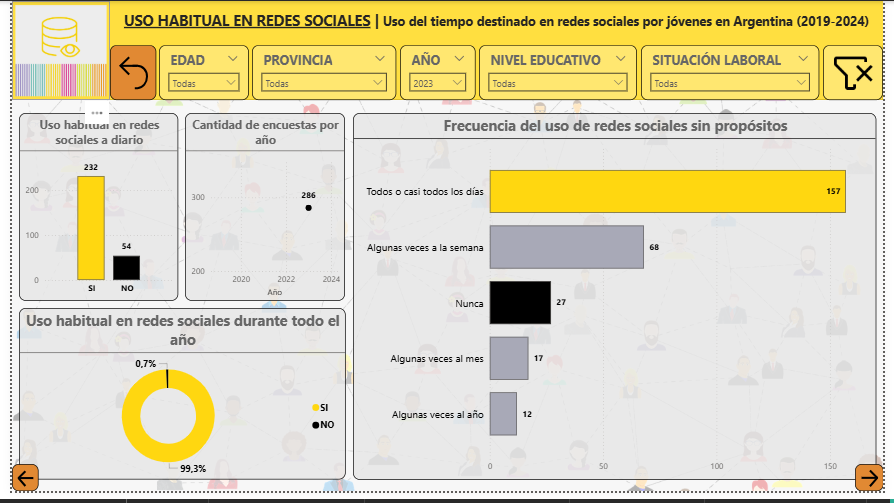

Layout of this report page (visuals, bound fields, positions):
{"tool":"powerbi","page":{"name":"Uso habitual en redes sociales","canvas":[1280,720],"ordinal":2},"visuals":[{"type":"shape","box":[0,0,1280.2,145.4],"z":0,"group":"g1"},{"type":"columnChart","title":"Uso habitual en redes sociales a diario","fields":{"Y":["_Medidas DAX.Cantidad total de encuestadxs1"],"Category":["T4- USO EN REDES SOCIALES.¿Utilizaste redes sociales durante el día de ayer?"]},"box":[10.1,164.2,234,276.5],"z":0},{"type":"slicer","fields":{"Values":["T1- INDIVIDUOS.PROVINCIA"]},"box":[352.8,64.8,211.7,80.6],"z":1000,"group":"g1"},{"type":"barChart","title":"Frecuencia del uso de redes sociales sin propósitos","fields":{"Category":["T4- USO EN REDES SOCIALES.Durante el último año, ¿Con qué frecuencia navegas en las redes sociales sin propósitos?"],"Y":["_Medidas DAX.Cantidad total de encuestadxs1"]},"box":[501.1,164.2,769,538.6],"z":1000},{"type":"image","box":[0,0,144,145.4],"z":2000,"group":"g1"},{"type":"donutChart","title":"Uso habitual en redes sociales durante todo el año","fields":{"Category":["T4- USO EN REDES SOCIALES.¿Utiliza habitualmente redes sociales en el último año? "],"Y":["_Medidas DAX.Cantidad total de encuestadxs1"]},"box":[10.1,450.7,479.5,252],"z":2000},{"type":"actionButton","box":[144,64.8,67.7,80.6],"z":3000,"group":"g1"},{"type":"lineChart","title":"Cantidad de encuestas por año","fields":{"Y":["_Medidas DAX.Cantidad total de encuestadxs"],"Category":["TablaCalendario.Año"]},"box":[254.9,164.2,234.7,276.5],"z":3000},{"type":"group","id":"g1","title":"Grupo 1","box":[0,0,1280.2,145.4],"z":4000},{"type":"slicer","fields":{"Values":["T1- INDIVIDUOS.EDAD"]},"box":[216,64.8,132.5,80.6],"z":4000,"group":"g1"},{"type":"slicer","fields":{"Values":["TablaCalendario.Año"]},"box":[570.2,64.8,110.9,80.6],"z":5000,"group":"g1"},{"type":"actionButton","box":[1238.2,679.7,41.8,40.3],"z":5000},{"type":"slicer","fields":{"Values":["T3- SITUACION LABORAL.Situacion laboral actual"]},"box":[924.5,64.8,262.1,80.6],"z":6000,"group":"g1"},{"type":"actionButton","box":[0,679.7,38.9,40.3],"z":6000},{"type":"slicer","fields":{"Values":["T2- NIVEL EDUCATIVO.NIVEL EDUCATIVO"]},"box":[686.9,64.8,231.8,80.6],"z":7000,"group":"g1"},{"type":"image","box":[1192.3,64.8,87.8,80.6],"z":8000,"group":"g1"},{"type":"textbox","box":[144,0,1136.2,64.8],"z":9000,"group":"g1"}]}

Visuals, with their boxes in screenshot pixels (x1, y1, x2, y2), scaled from the page's 1280x720 canvas onto the 894x503 screenshot:
shape: pyautogui.locateOnScreen(0, 0, 893, 102)
"Uso habitual en redes sociales a diario" columnChart: pyautogui.locateOnScreen(7, 115, 170, 308)
slicer - T1- INDIVIDUOS.PROVINCIA: pyautogui.locateOnScreen(246, 45, 394, 102)
"Frecuencia del uso de redes sociales sin propósitos" barChart: pyautogui.locateOnScreen(350, 115, 887, 491)
image: pyautogui.locateOnScreen(0, 0, 101, 102)
"Uso habitual en redes sociales durante todo el año" donutChart: pyautogui.locateOnScreen(7, 315, 342, 491)
actionButton: pyautogui.locateOnScreen(101, 45, 148, 102)
"Cantidad de encuestas por año" lineChart: pyautogui.locateOnScreen(178, 115, 342, 308)
"Grupo 1" group: pyautogui.locateOnScreen(0, 0, 893, 102)
slicer - T1- INDIVIDUOS.EDAD: pyautogui.locateOnScreen(151, 45, 243, 102)
slicer - TablaCalendario.Año: pyautogui.locateOnScreen(398, 45, 476, 102)
actionButton: pyautogui.locateOnScreen(865, 475, 893, 502)
slicer - T3- SITUACION LABORAL.Situacion laboral actual: pyautogui.locateOnScreen(646, 45, 829, 102)
actionButton: pyautogui.locateOnScreen(0, 475, 27, 502)
slicer - T2- NIVEL EDUCATIVO.NIVEL EDUCATIVO: pyautogui.locateOnScreen(480, 45, 642, 102)
image: pyautogui.locateOnScreen(833, 45, 893, 102)
textbox: pyautogui.locateOnScreen(101, 0, 893, 45)
